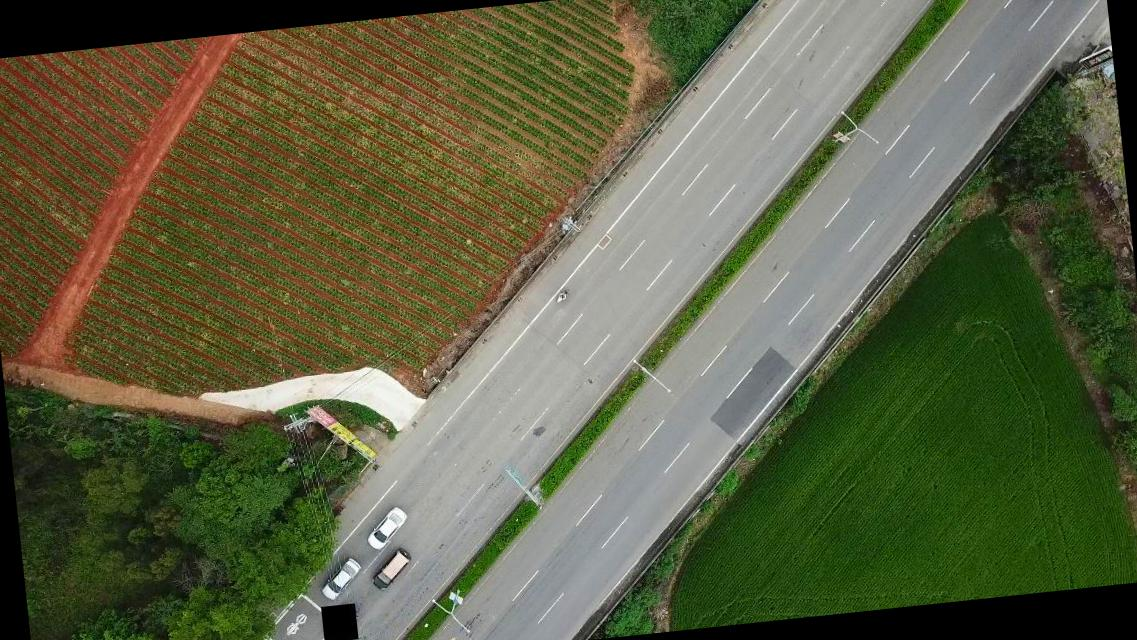vehicle: (315, 556, 364, 602), (363, 504, 409, 552), (369, 547, 413, 593)
